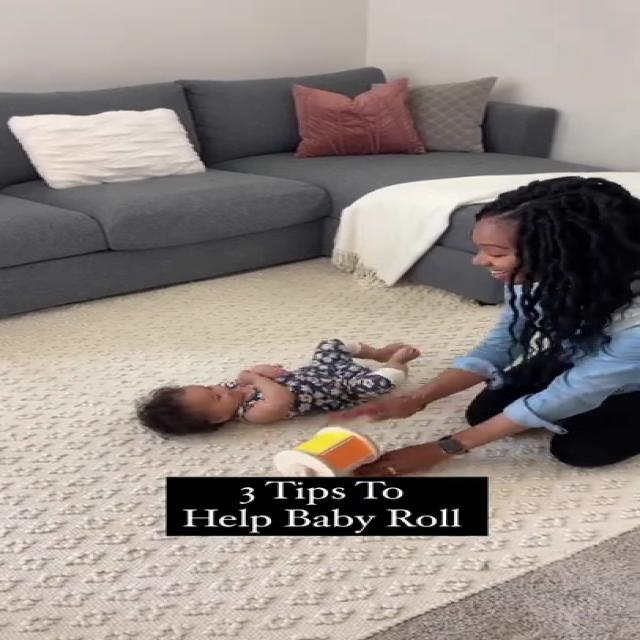baby: (135, 334, 422, 434)
